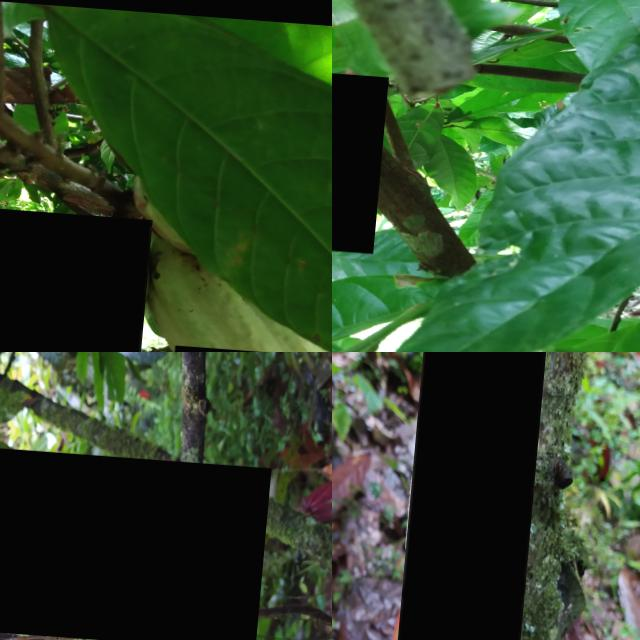Fitoftora: (332, 65, 394, 247)
Monilia: (0, 439, 276, 640), (401, 352, 551, 640)
Sana: (0, 205, 156, 352)
